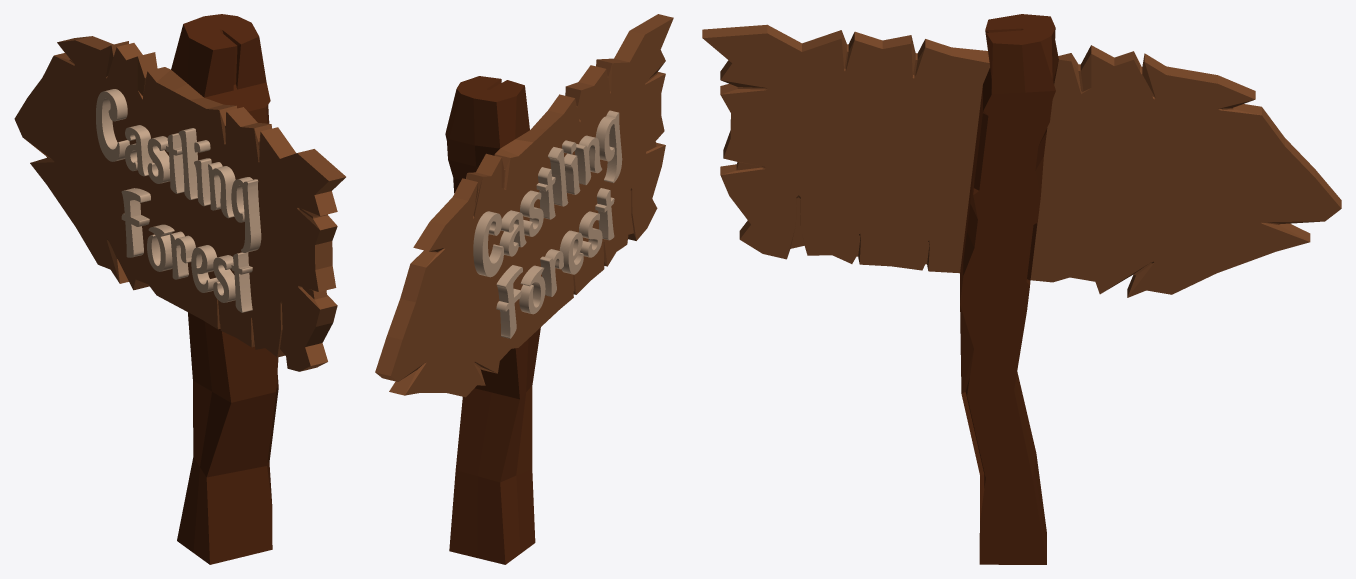
File: Castling Forest.fbx
3 renders of one model, left to right at view 1: azimuth 30°, elevation 25°; view 2: azimuth 150°, elevation 25°; view 3: azimuth 270°, elevation 25°, orthographic. The views are drawn at different scales.
Visible parts, largest first — view 1: FLECHA.001; view 2: FLECHA.001; view 3: FLECHA.001.
Boxes of the visible parts, <box> form: FLECHA.001: <box>14,14,345,564</box>; FLECHA.001: <box>375,14,673,564</box>; FLECHA.001: <box>702,14,1341,564</box>.
Bounding box in the file's own units: 46.66 × 254 × 282.
